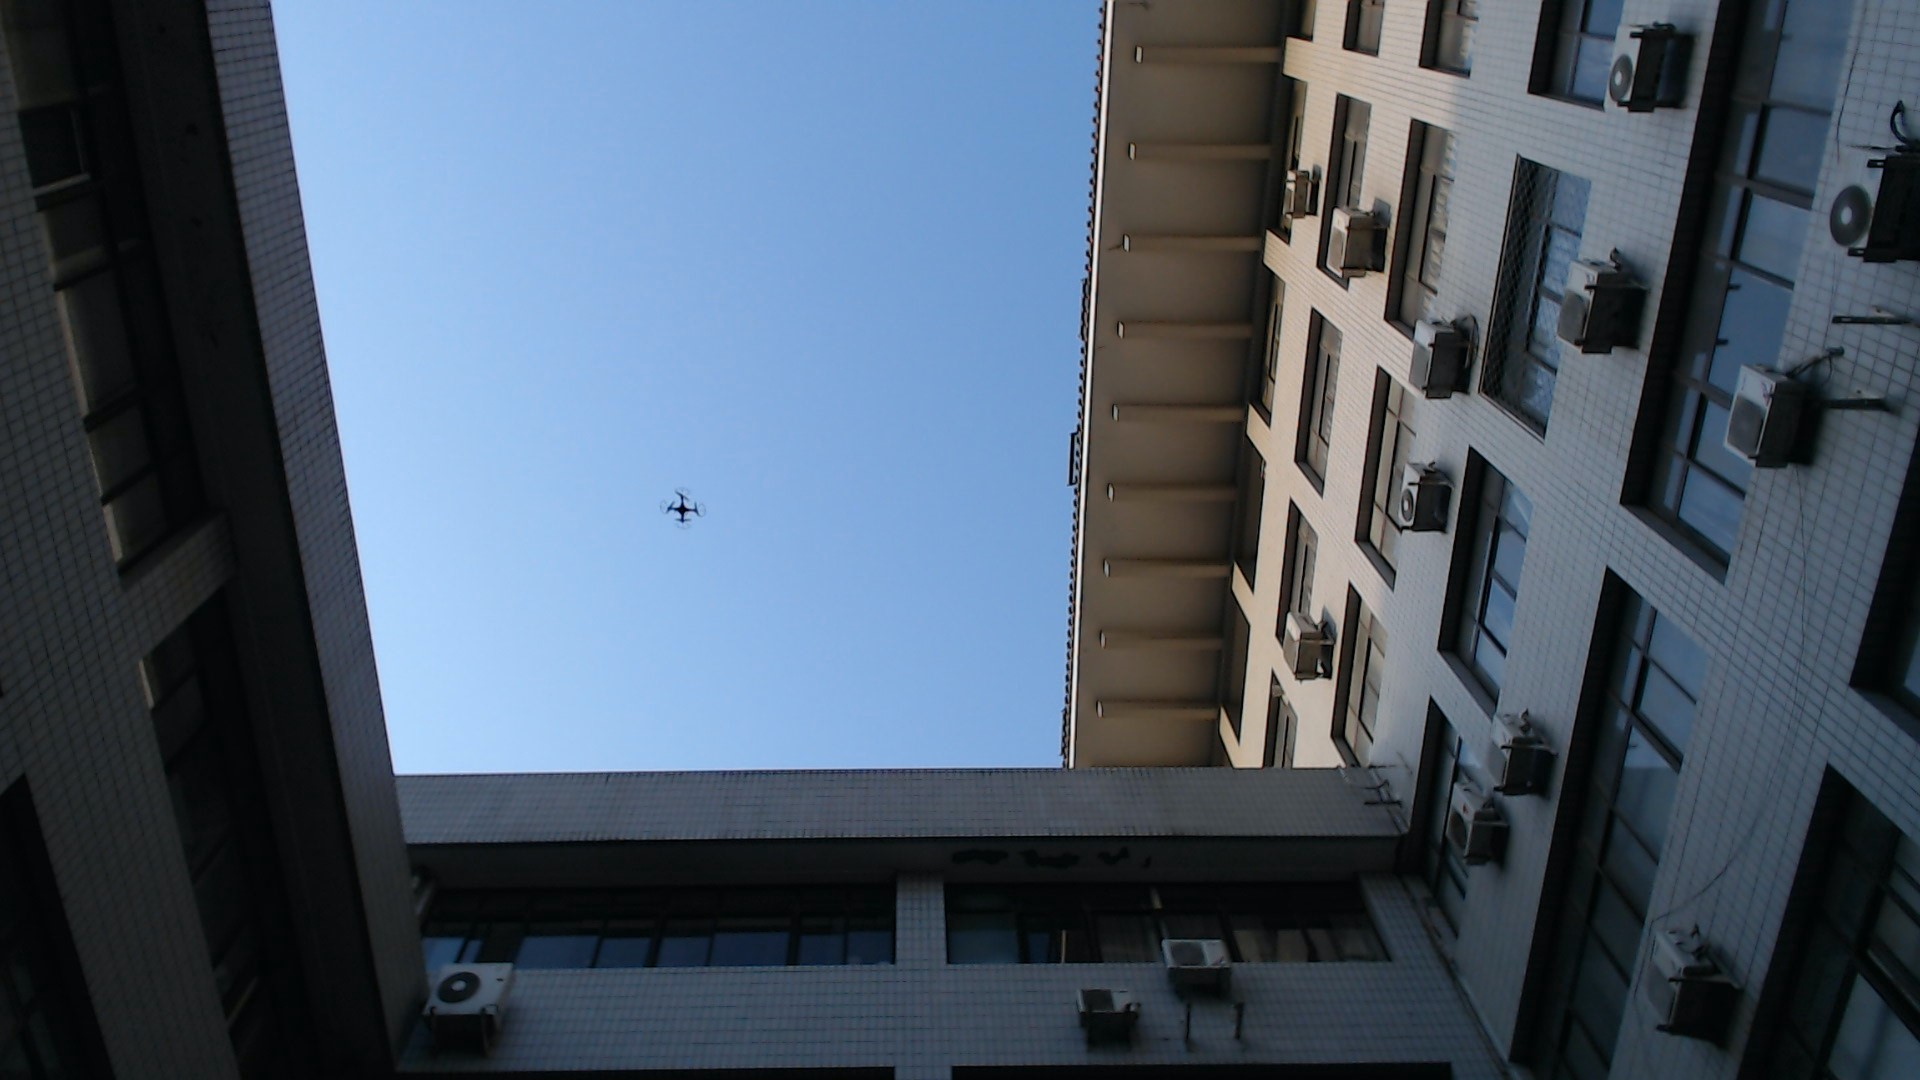drone: (649, 469, 719, 546)
